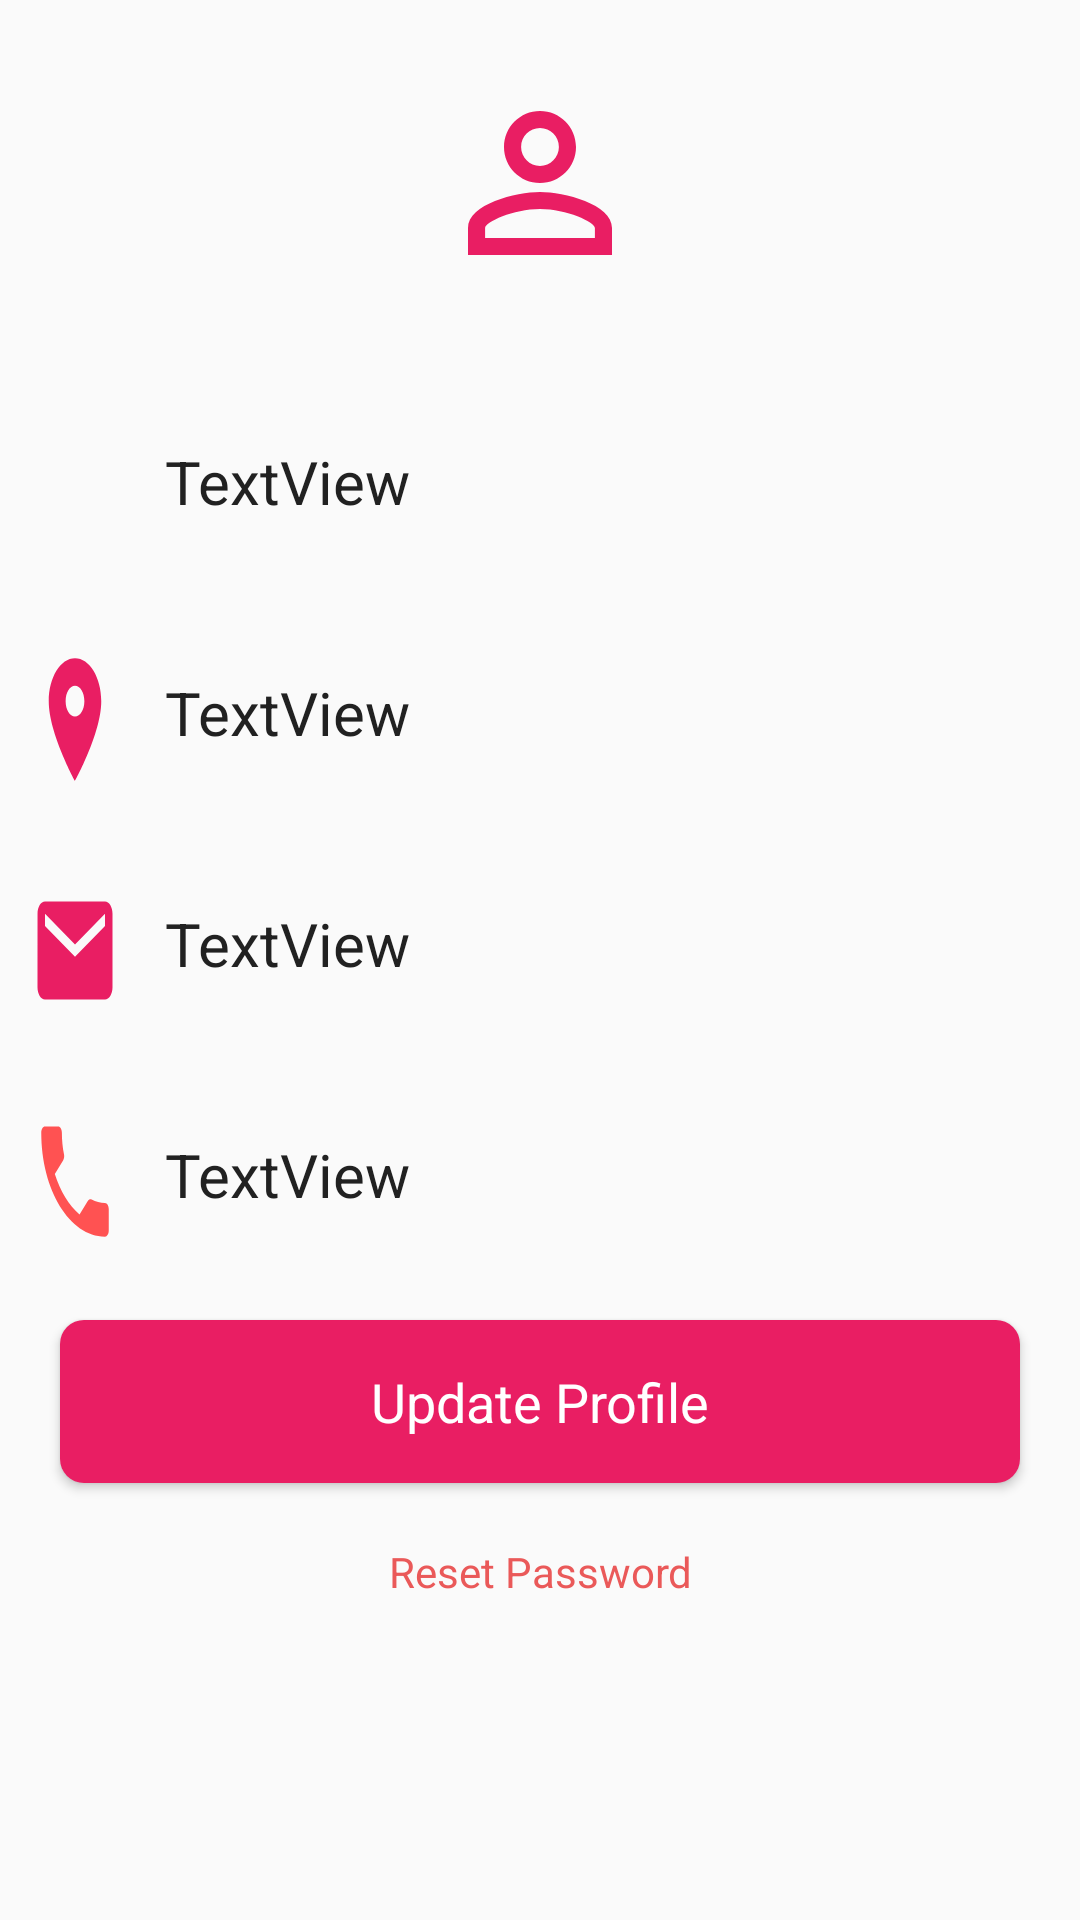

Locate icon controls on the screen. Image size 1080w x 1920h, boxes as (x1, y1, x2, y2).
email: (37, 901, 113, 1000)
location: (48, 658, 102, 781)
person: (468, 111, 612, 255)
phone: (41, 1126, 109, 1237)
